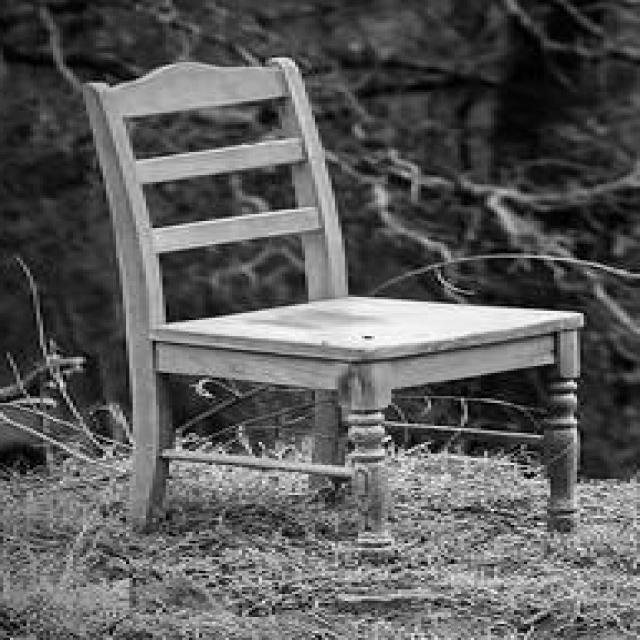chair: (78, 54, 574, 568)
